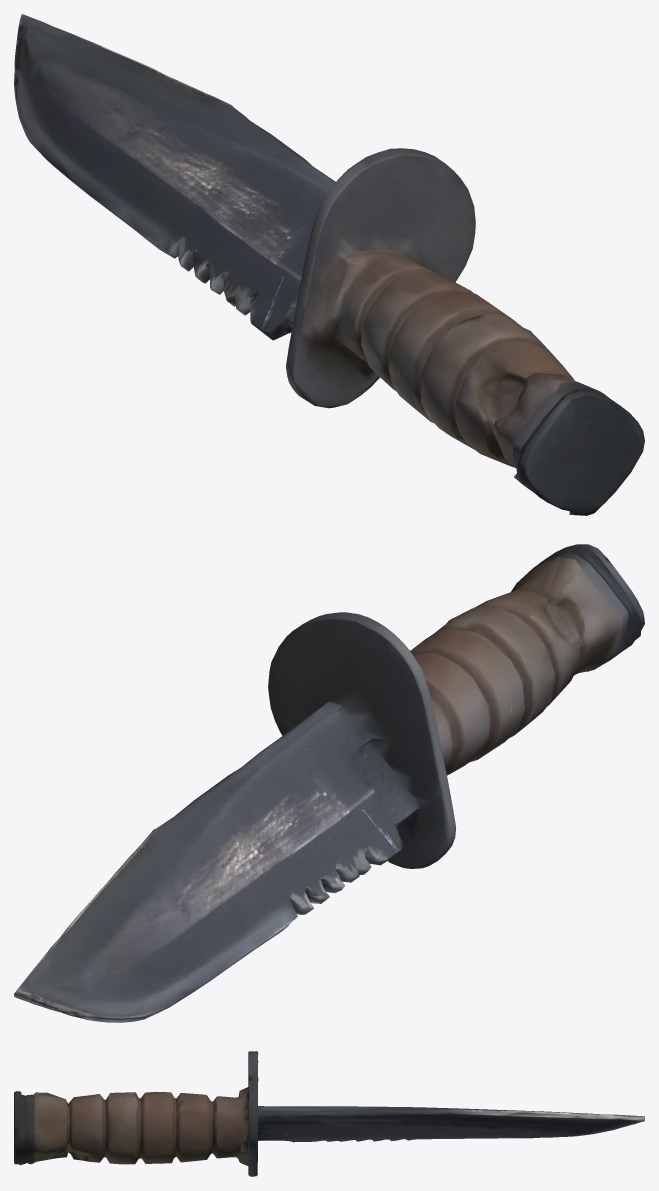
The model's file is knife-fp.glb.
3 views of the same model, one above another, from view 1: azimuth 30°, elevation 25°; view 2: azimuth 150°, elevation 25°; view 3: azimuth 270°, elevation 25° (orthographic). The views are drawn at different scales.
Visible parts, largest first — view 1: tripo_node_f57b09f9-ec09-4f52-af72-c141d38827da; view 2: tripo_node_f57b09f9-ec09-4f52-af72-c141d38827da; view 3: tripo_node_f57b09f9-ec09-4f52-af72-c141d38827da.
Part boxes in pixels (left/top/right/bottom): tripo_node_f57b09f9-ec09-4f52-af72-c141d38827da: left=14, top=14, right=644, bottom=515; tripo_node_f57b09f9-ec09-4f52-af72-c141d38827da: left=14, top=544, right=644, bottom=1022; tripo_node_f57b09f9-ec09-4f52-af72-c141d38827da: left=14, top=1051, right=644, bottom=1176.
Size of the model in its own units: 0.1864 by 0.2321 by 1.
1 material, 1 textured.
